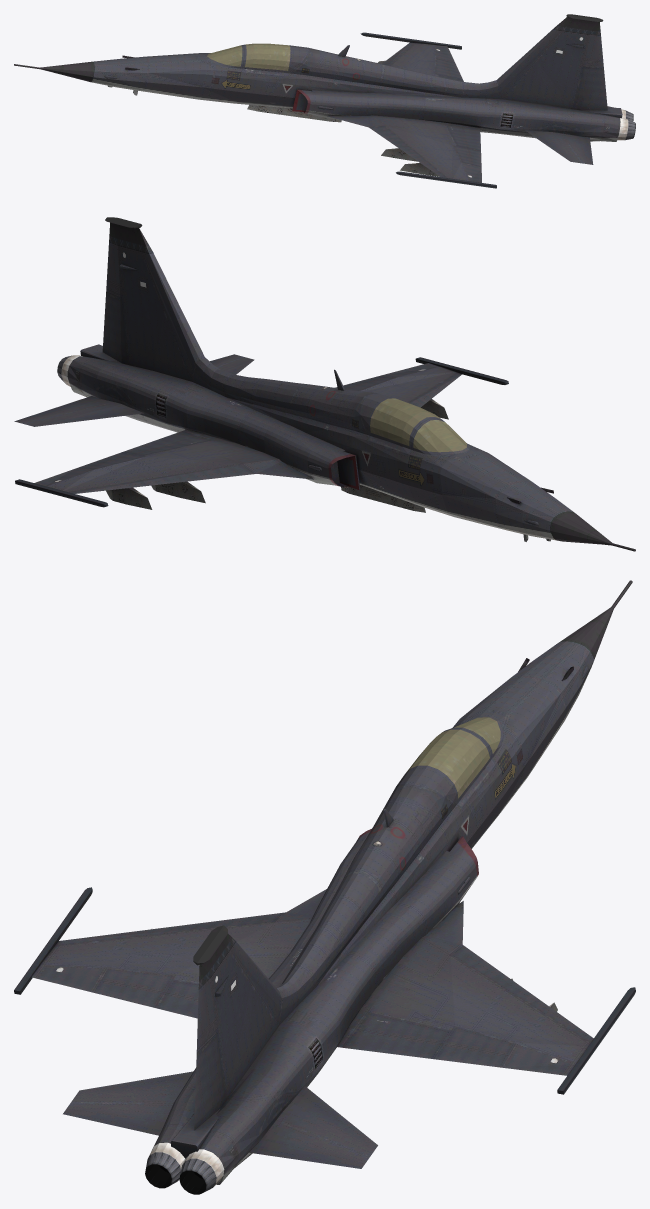
The model's file is Tiger2.obj.
3 renders of one model, top to bottom at view 1: azimuth 30°, elevation 25°; view 2: azimuth 150°, elevation 25°; view 3: azimuth 270°, elevation 25°, orthographic. The views are drawn at different scales.
Parts seen in each view (by area): view 1: LOD0, ElevatorL01, Glass_Canopy01, RudderL01, Canopy01, VoletL01, FlapL01, Glass01, AileronL01, AileronR01; view 2: LOD0, ElevatorR01, Glass_Canopy01, VoletR01, Glass01, RudderL01, Canopy01, FlapR01, ElevatorL01, AileronR01, VoletL01; view 3: LOD0, ElevatorR01, ElevatorL01, FlapR01, Glass_Canopy01, AileronL01, AileronR01, VoletR01, RudderL01, Canopy01, VoletL01, FlapL01 (+2 smaller).
Boxes of the visible parts, <box> form: LOD0: <box>14,14,628,188</box>; ElevatorL01: <box>525,130,593,164</box>; Glass_Canopy01: <box>245,43,290,70</box>; RudderL01: <box>576,66,607,107</box>; Canopy01: <box>242,44,308,76</box>; VoletL01: <box>369,126,447,177</box>; FlapL01: <box>446,125,480,151</box>; Glass01: <box>207,45,242,66</box>; AileronL01: <box>453,145,481,167</box>; AileronR01: <box>434,58,462,79</box>; LOD0: <box>15,217,635,551</box>; ElevatorR01: <box>14,396,143,426</box>; Glass_Canopy01: <box>370,398,440,445</box>; VoletR01: <box>68,464,256,493</box>; Glass01: <box>413,420,466,452</box>; RudderL01: <box>103,289,125,356</box>; Canopy01: <box>361,393,442,453</box>; FlapR01: <box>121,431,211,455</box>; ElevatorL01: <box>210,354,254,374</box>; AileronR01: <box>77,452,145,469</box>; VoletL01: <box>408,372,462,407</box>; LOD0: <box>14,580,635,1187</box>; ElevatorR01: <box>249,1086,377,1168</box>; ElevatorL01: <box>63,1071,193,1135</box>; FlapR01: <box>342,1013,451,1059</box>; Glass_Canopy01: <box>405,729,489,798</box>; AileronL01: <box>92,967,174,1007</box>; AileronR01: <box>434,1026,516,1067</box>; VoletR01: <box>451,945,593,1043</box>; RudderL01: <box>194,1031,223,1125</box>; Canopy01: <box>396,728,495,806</box>; VoletL01: <box>54,912,285,946</box>; FlapL01: <box>154,979,198,1018</box>.
Bounding box in the file's own units: 13.56 × 3.18 × 8.07.
4 materials, 4 textured.
